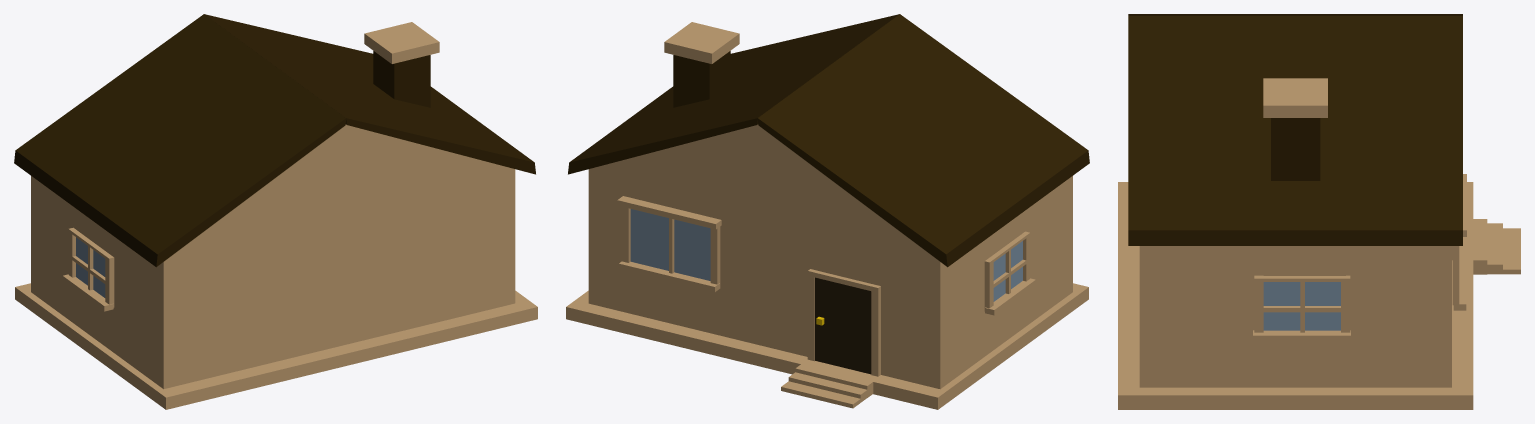
Rendered from Brown Roof House FBX.fbx.
3 renders of one model, left to right at view 1: azimuth 30°, elevation 25°; view 2: azimuth 150°, elevation 25°; view 3: azimuth 270°, elevation 25°, orthographic. The views are drawn at different scales.
Parts seen in each view (by area): view 1: pasted__pCube1; view 2: pasted__pCube1; view 3: pasted__pCube1.
Boxes of the visible parts, x1,y1,x2,y2 form: pasted__pCube1: [14, 14, 537, 409]; pasted__pCube1: [566, 14, 1089, 409]; pasted__pCube1: [1118, 14, 1520, 409].
Bounding box in the file's own units: 10.44 × 6.4 × 8.15.
